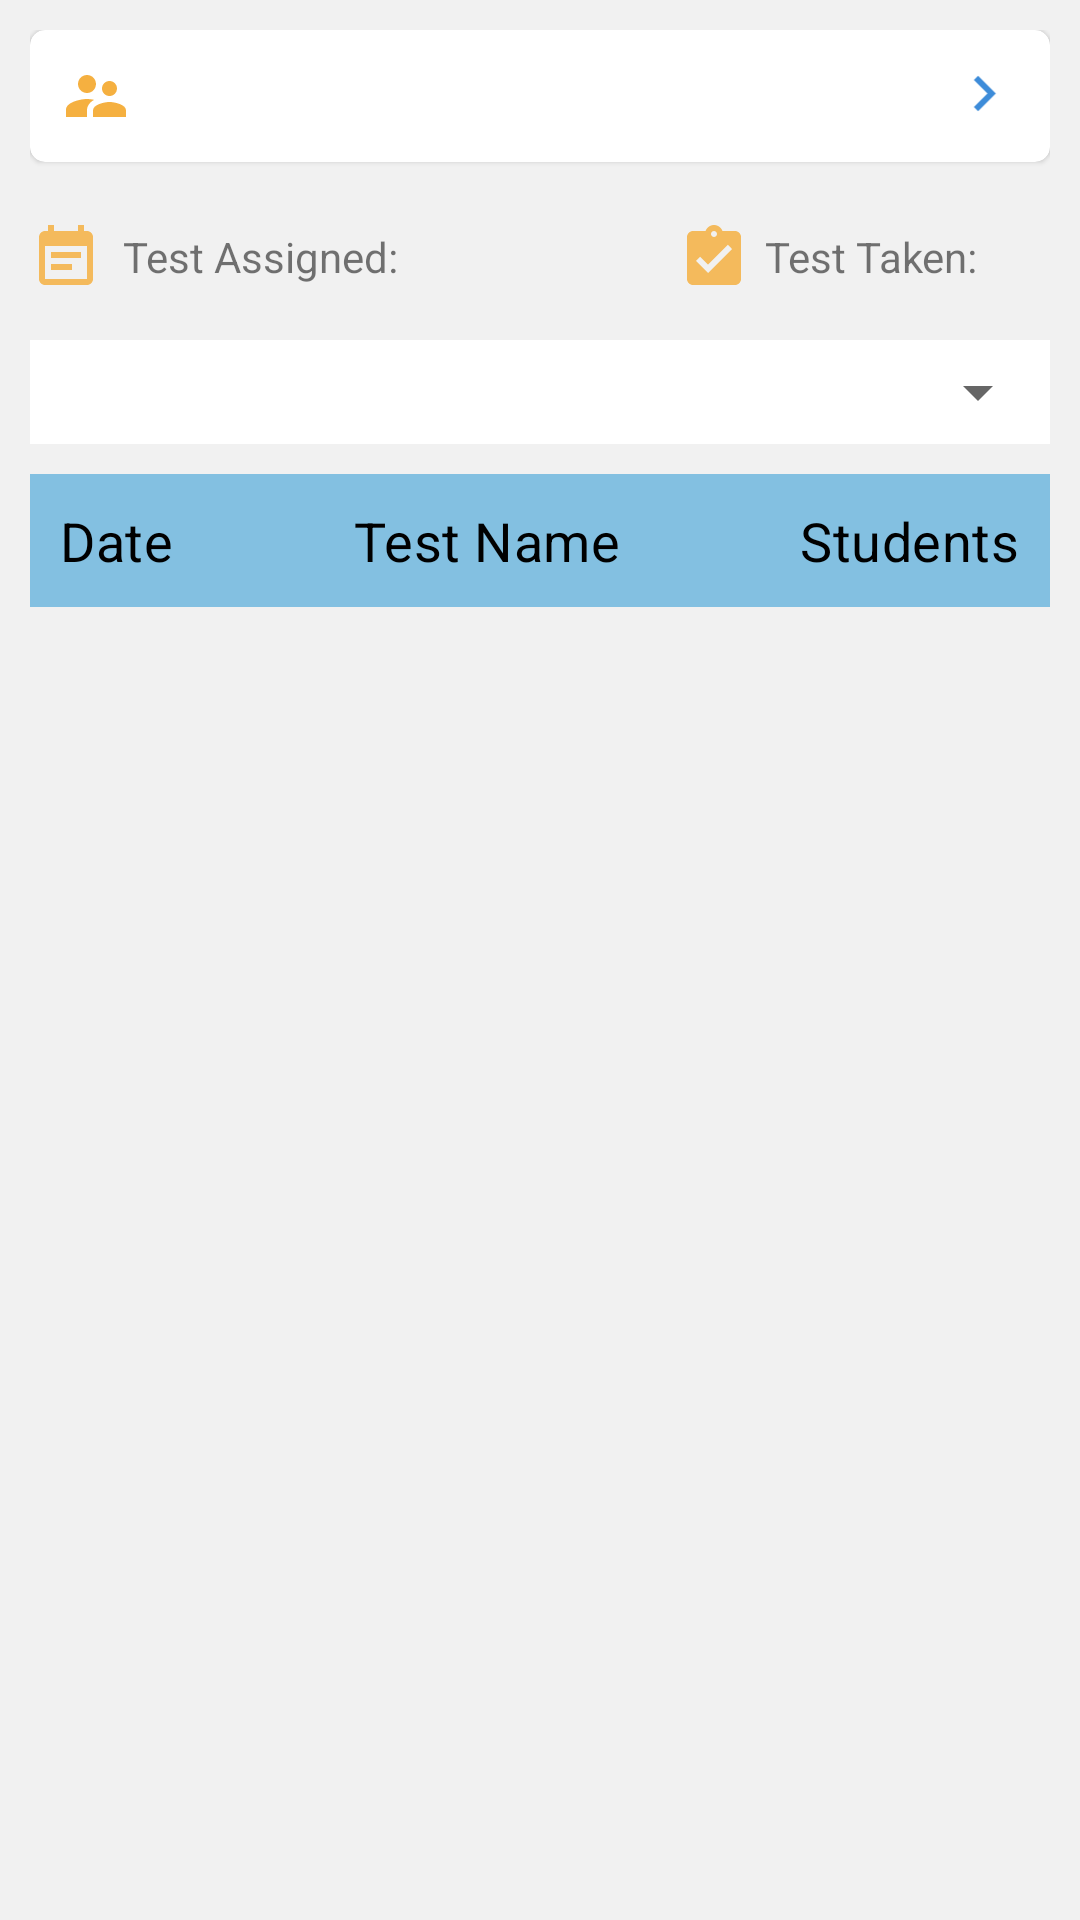

Icon click points for this 1080*1920 phone screenshot, format point (x, y):
assignment turned in: point (714, 255)
chevron right: point (985, 93)
event note: point (66, 255)
supervisor account: point (96, 96)
